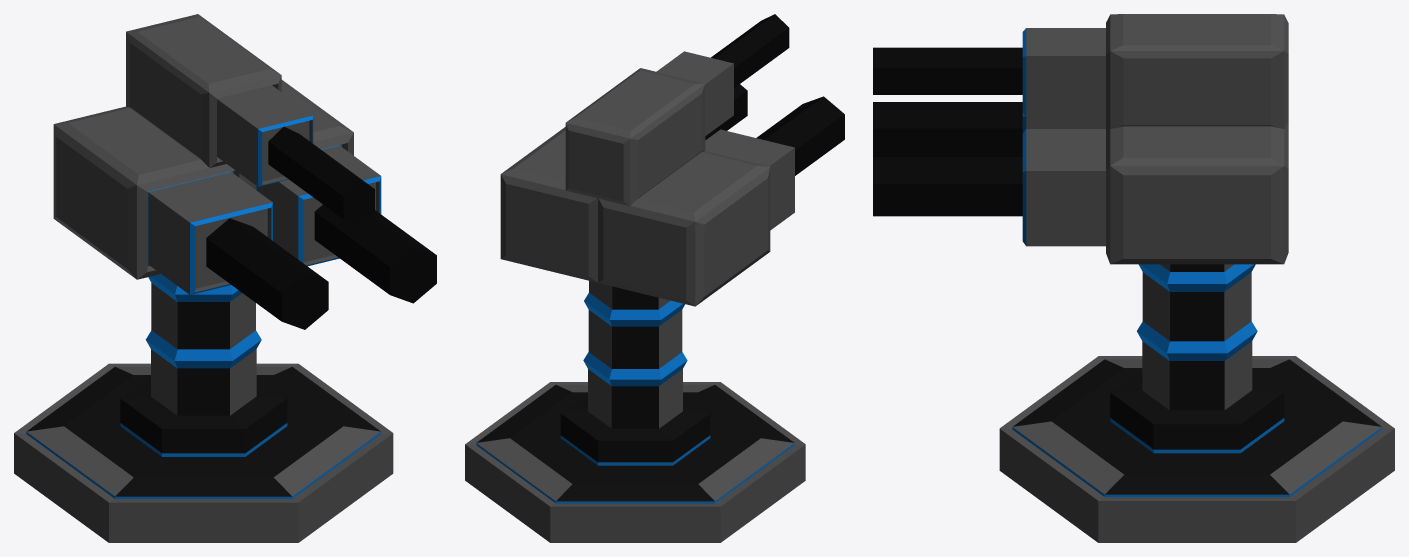
File: Minigunner.obj
3 renders of one model, left to right at view 1: azimuth 30°, elevation 25°; view 2: azimuth 150°, elevation 25°; view 3: azimuth 270°, elevation 25°, orthographic. The views are drawn at different scales.
Visible parts, largest first — view 1: SmallGun, PrimaryPart, PrimaryPillar; view 2: SmallGun, PrimaryPart, PrimaryPillar; view 3: SmallGun, PrimaryPart, PrimaryPillar.
Boxes of the visible parts, x1=… form: SmallGun: x1=53, y1=14, x2=436, y2=329; PrimaryPart: x1=14, y1=363, x2=393, y2=542; PrimaryPillar: x1=120, y1=274, x2=287, y2=456; SmallGun: x1=500, y1=14, x2=844, y2=306; PrimaryPart: x1=465, y1=382, x2=805, y2=542; PrimaryPillar: x1=560, y1=280, x2=710, y2=465; SmallGun: x1=873, y1=14, x2=1288, y2=264; PrimaryPart: x1=999, y1=356, x2=1394, y2=542; PrimaryPillar: x1=1110, y1=264, x2=1284, y2=453.
Bounding box in the file's own units: 1.57 × 2.24 × 2.4.
